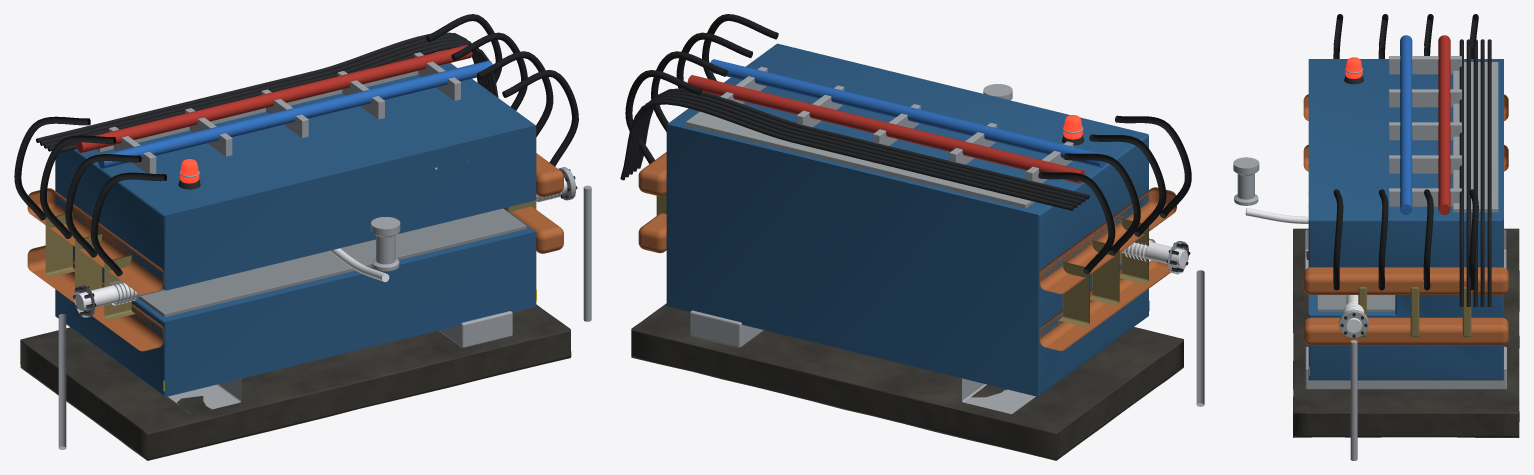
The model's file is accel_magnet.glb.
The picture shows the model from 3 angles, left to right: view 1: azimuth 30°, elevation 25°; view 2: azimuth 150°, elevation 25°; view 3: azimuth 270°, elevation 25°; orthographic projection. The views are drawn at different scales.
Size of the model in its own units: 3.14 by 1.51 by 1.65.
16 materials, 2 textured.
